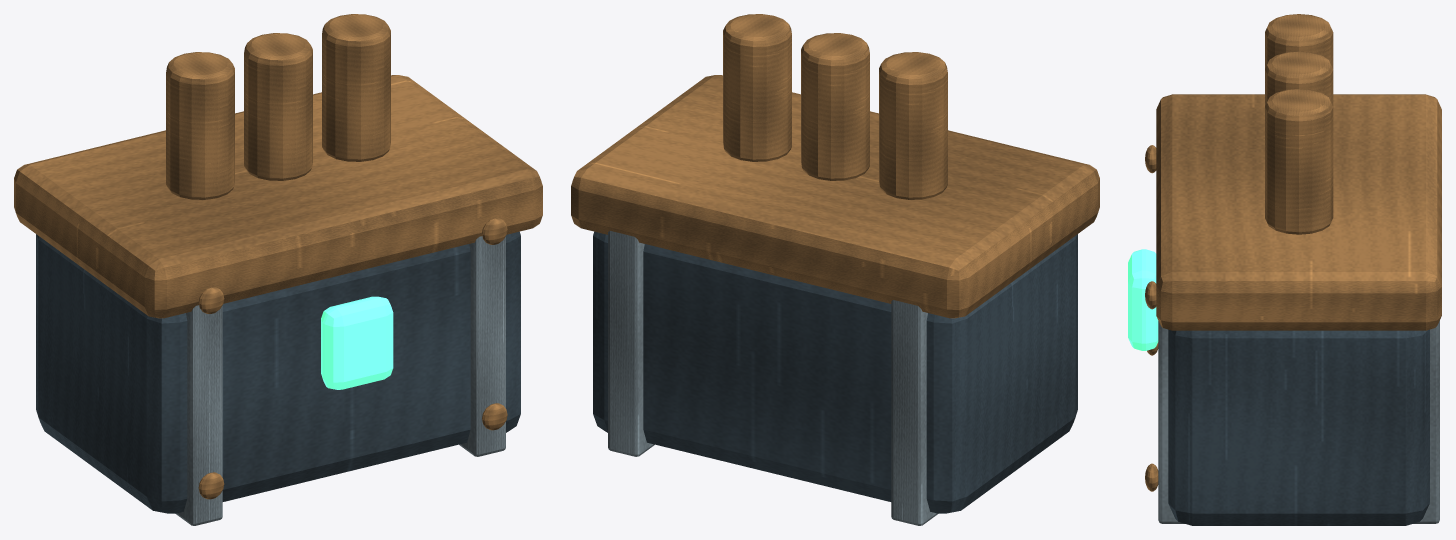
Rendered from supply_crate.glb.
The picture shows the model from 3 angles, left to right: view 1: azimuth 30°, elevation 25°; view 2: azimuth 150°, elevation 25°; view 3: azimuth 270°, elevation 25°; orthographic projection.
Parts seen in each view (by area): view 1: supply_crate; view 2: supply_crate; view 3: supply_crate.
Boxes of the visible parts, left/top/right/bottom form: supply_crate: left=14, top=14, right=542, bottom=525; supply_crate: left=571, top=14, right=1099, bottom=525; supply_crate: left=1128, top=14, right=1441, bottom=525.
Size of the model in its own units: 1.12 by 1.06 by 0.78.
4 materials, 3 textured.
